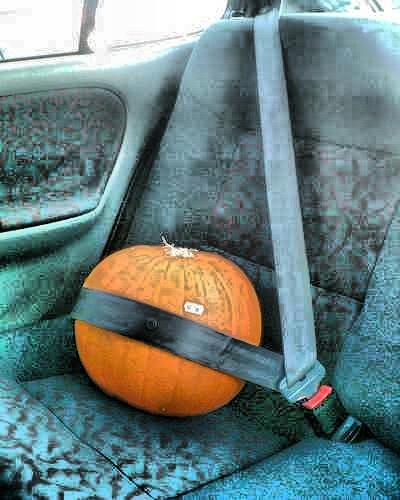seatbelt: (101, 13, 347, 429)
